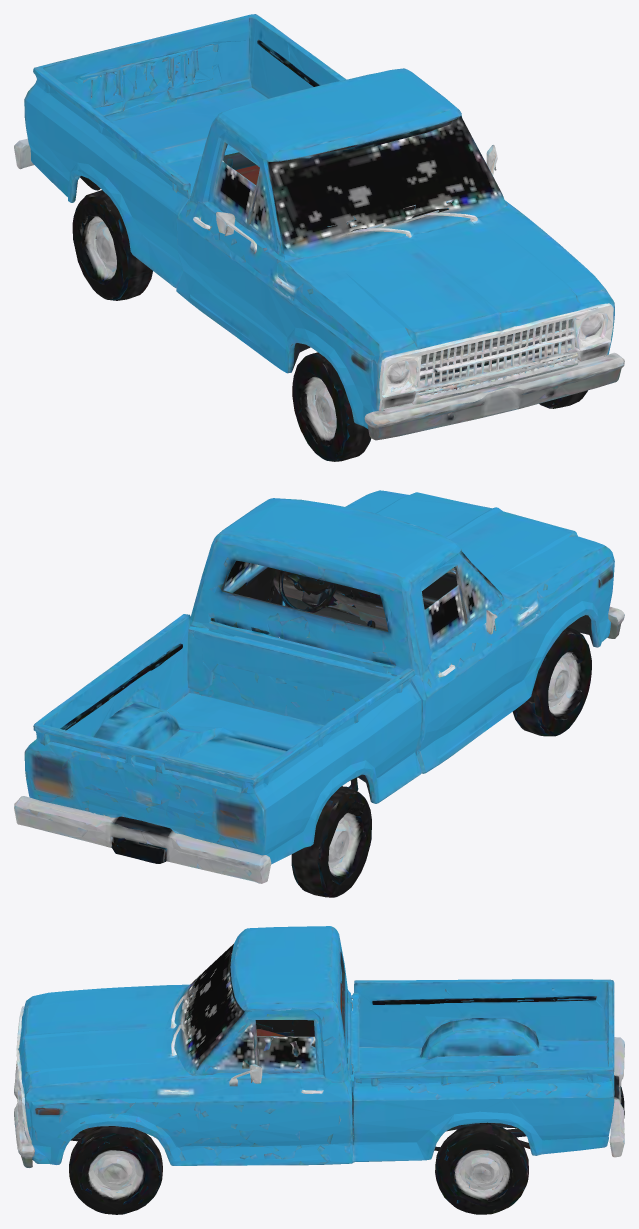
File: traffic-pickup.glb
The picture shows the model from 3 angles, top to bottom: view 1: azimuth 30°, elevation 25°; view 2: azimuth 150°, elevation 25°; view 3: azimuth 270°, elevation 25°; orthographic projection. The views are drawn at different scales.
Parts seen in each view (by area): view 1: geometry_0; view 2: geometry_0; view 3: geometry_0.
Part boxes in pixels (box(x1,y1,x2,y2)): geometry_0: box(14, 14, 624, 461); geometry_0: box(14, 490, 624, 897); geometry_0: box(14, 926, 624, 1214).
Bounding box in the file's own units: 0.4344 × 0.3702 × 0.9906.
Materials: 1 (1 with a texture image).
